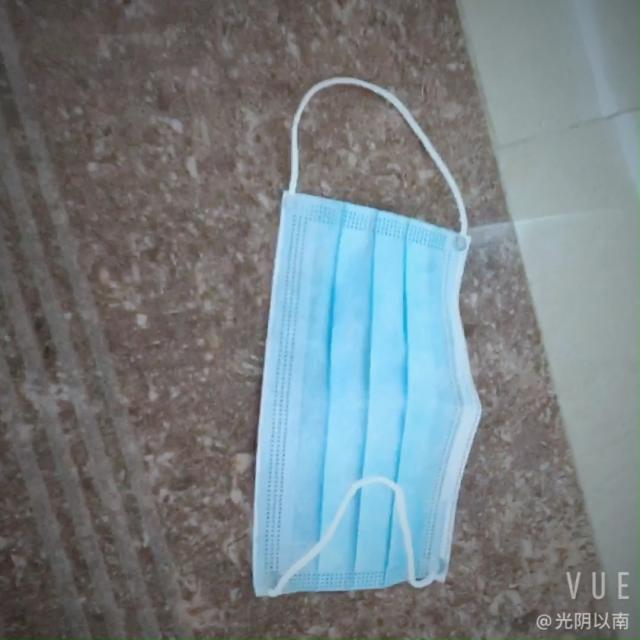face mask: (242, 196, 489, 600)
